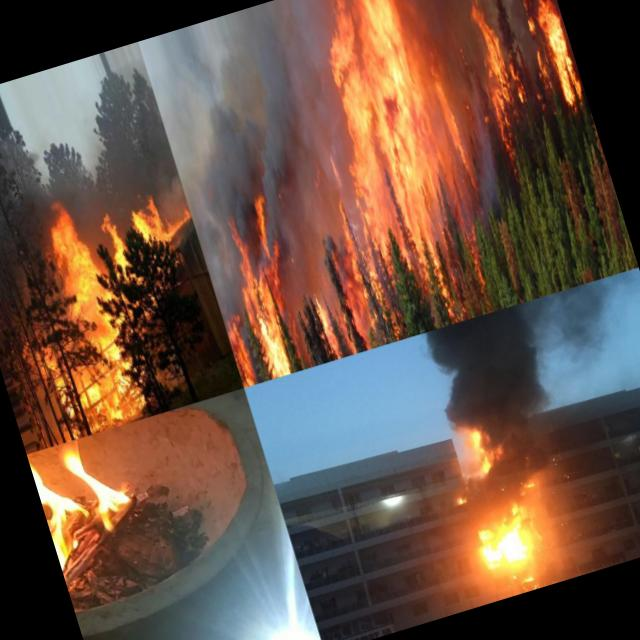fire: (272, 0, 502, 311), (27, 430, 146, 593), (218, 202, 310, 380), (39, 190, 126, 358), (461, 0, 531, 136), (462, 490, 558, 584), (53, 346, 149, 439), (524, 0, 587, 106), (518, 5, 558, 101), (92, 198, 136, 277), (223, 314, 259, 388), (15, 324, 62, 378), (136, 209, 196, 250), (306, 278, 340, 346), (468, 422, 503, 473), (126, 193, 162, 225), (450, 486, 473, 508)
smoke: (137, 0, 355, 247), (414, 266, 640, 430), (446, 67, 520, 226), (5, 134, 78, 208), (136, 121, 189, 218), (468, 453, 560, 508), (490, 398, 562, 466), (96, 128, 155, 204), (314, 222, 362, 306), (73, 159, 114, 207), (0, 249, 17, 312)
